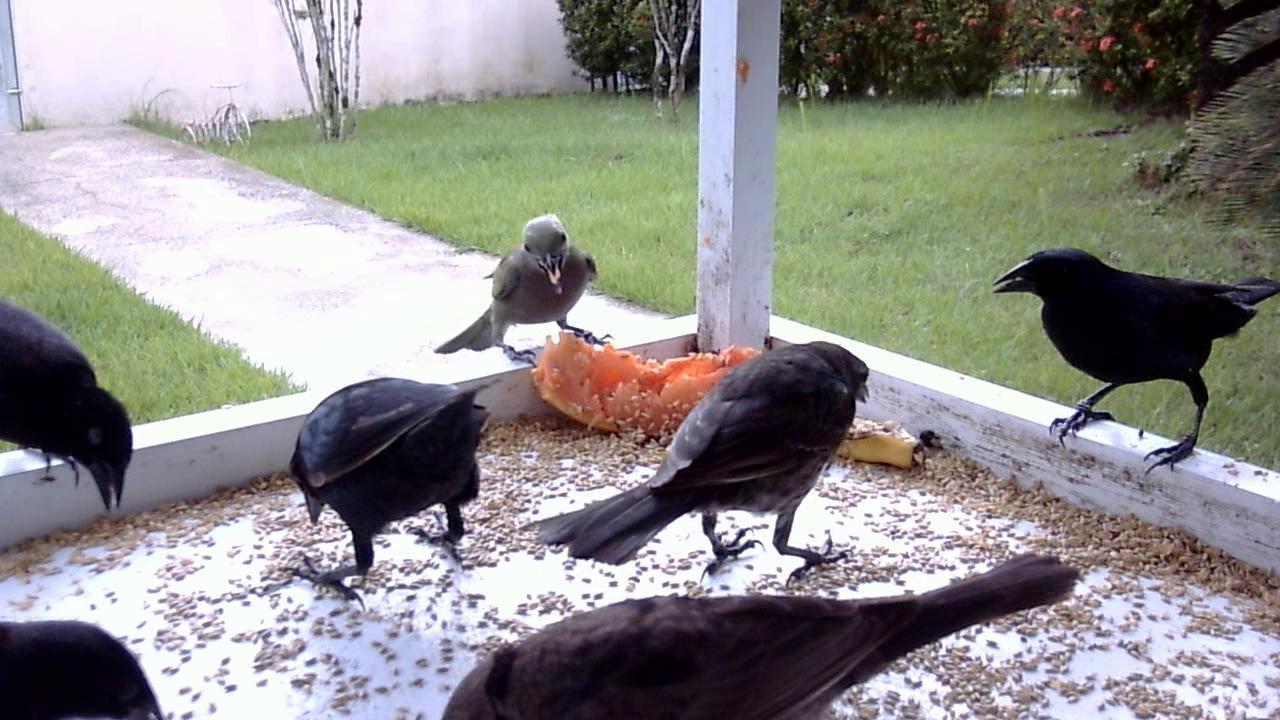chupim: (417, 543, 1105, 720), (521, 334, 878, 592), (986, 231, 1280, 486), (264, 360, 521, 606), (1, 288, 143, 527)
sanhaco_do_coqueiro: (430, 214, 617, 374)
